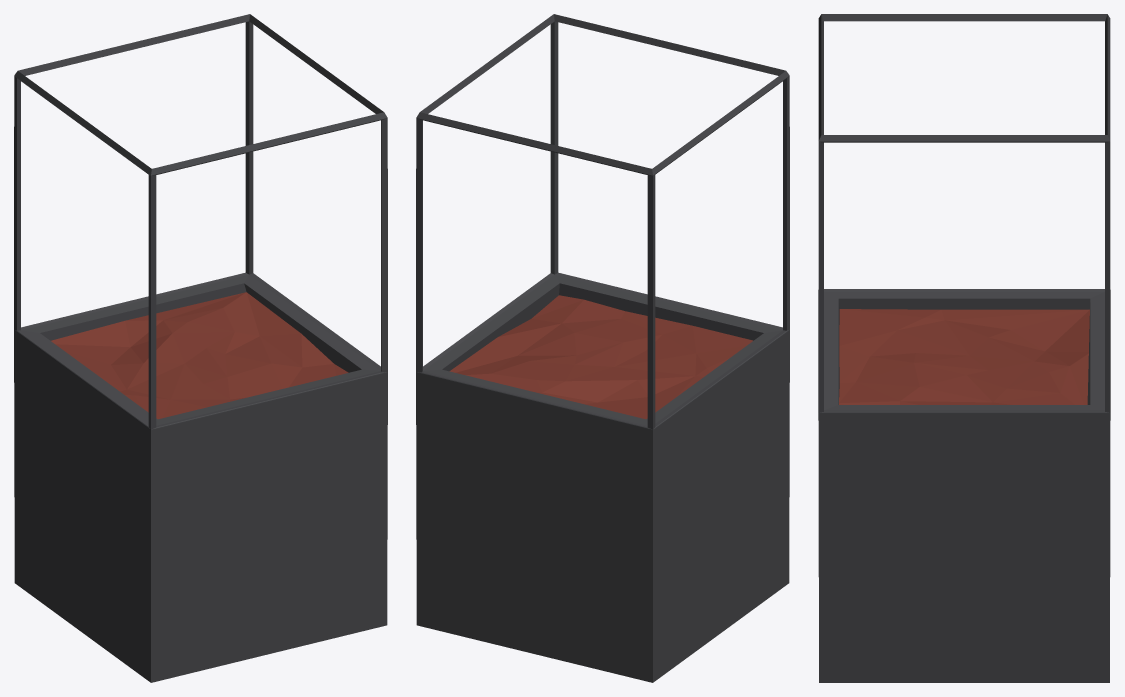
File: PlantBacSmall.fbx
The picture shows the model from 3 angles, left to right: view 1: azimuth 30°, elevation 25°; view 2: azimuth 150°, elevation 25°; view 3: azimuth 270°, elevation 25°; orthographic projection. The views are drawn at different scales.
Parts seen in each view (by area): view 1: PlantBacSmall; view 2: PlantBacSmall; view 3: PlantBacSmall.
Boxes of the visible parts, bbox=[...] form: PlantBacSmall: bbox=[14, 14, 387, 682]; PlantBacSmall: bbox=[416, 14, 789, 682]; PlantBacSmall: bbox=[818, 14, 1110, 682].
Size of the model in its own units: 0.6686 by 1.38 by 0.6686.
